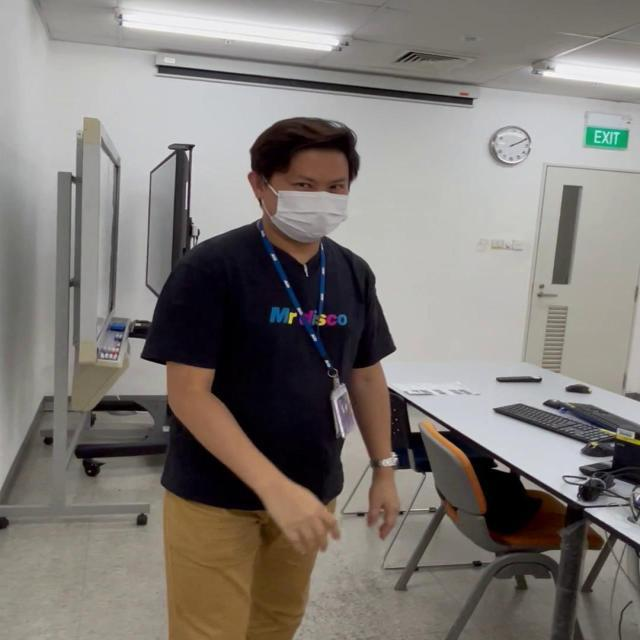bare_hand: (266, 490, 343, 558), (360, 463, 402, 542)
